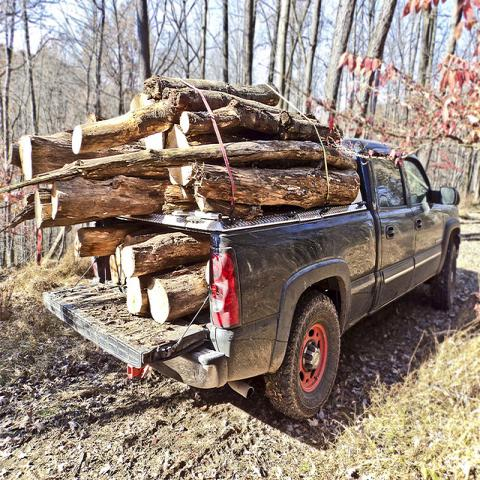truck: (2, 75, 464, 424)
